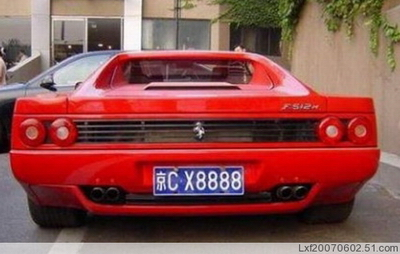plate_number: (151, 165, 246, 198)
